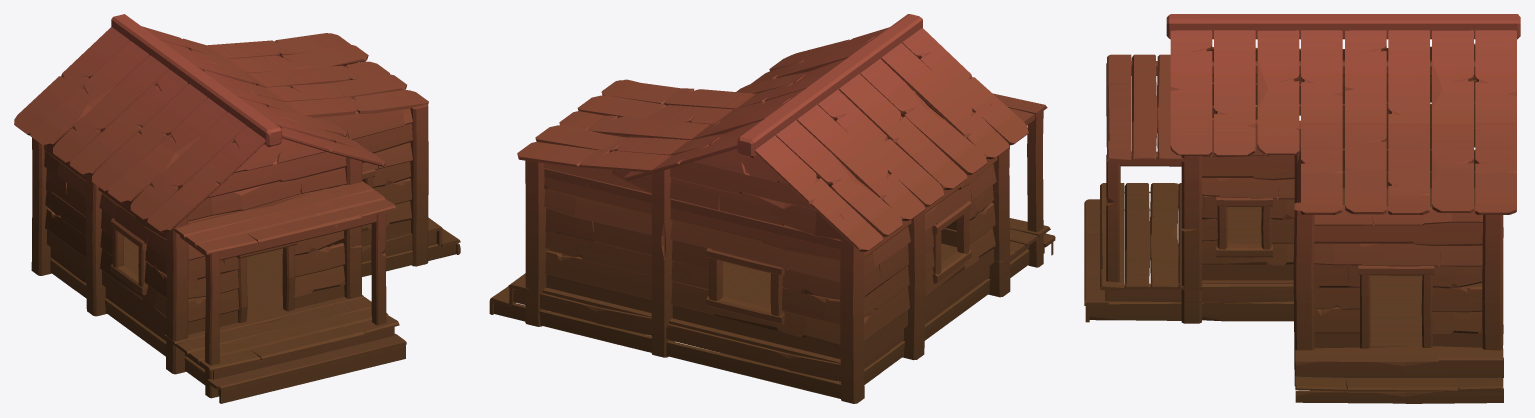
3 renders of one model, left to right at view 1: azimuth 30°, elevation 25°; view 2: azimuth 150°, elevation 25°; view 3: azimuth 270°, elevation 25°, orthographic. The views are drawn at different scales.
Parts seen in each view (by area): view 1: WoodenHouse1; view 2: WoodenHouse1; view 3: WoodenHouse1.
Boxes of the visible parts, x1,y1,x2,y2 form: WoodenHouse1: (14, 14, 460, 403); WoodenHouse1: (489, 14, 1055, 403); WoodenHouse1: (1084, 14, 1520, 403).
Size of the model in its own units: 12.14 by 7.45 by 11.57.
1 material, 1 textured.
